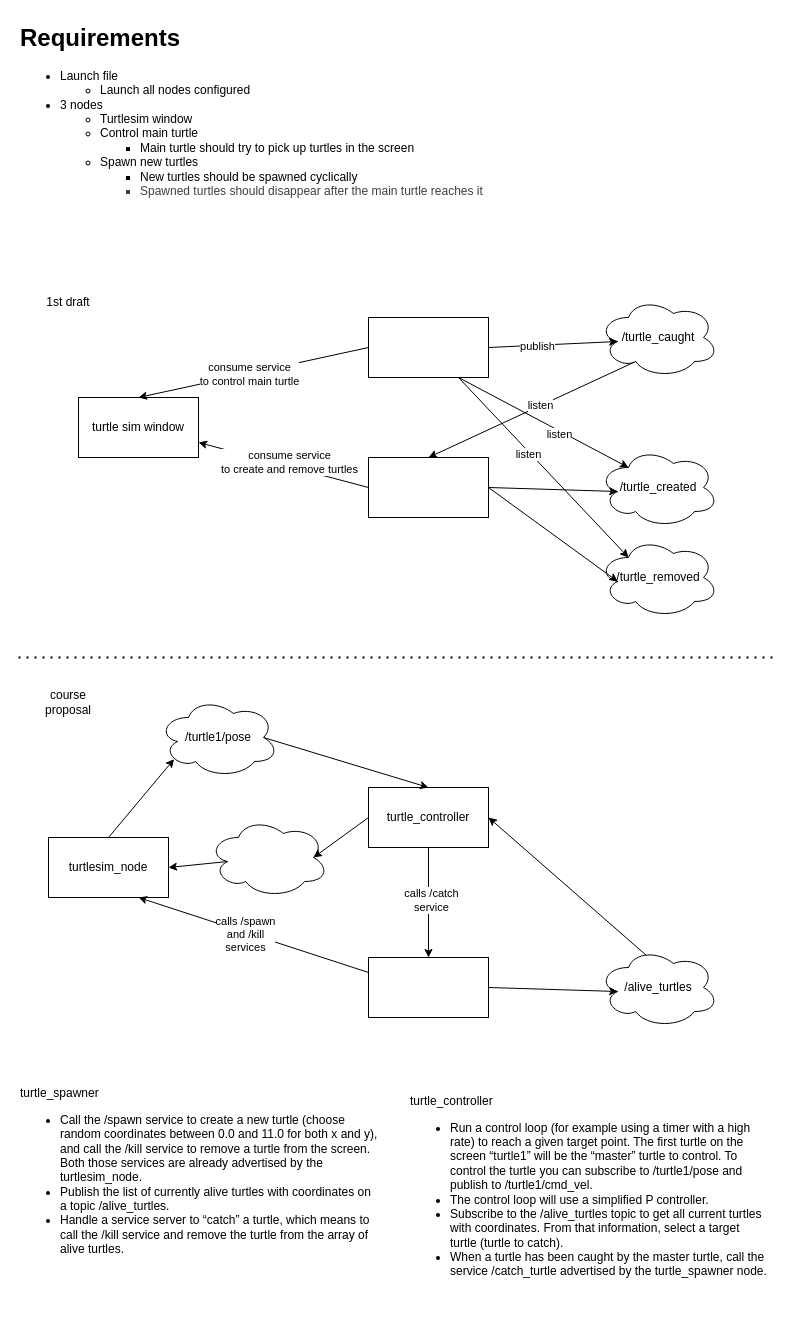
The diagram is 797 pixels wide and 1324 high, and some of its shapes have lost their labels. The shapes that lost their labels are listed below. From the top down, each one's box as (x1, y1, x2, y2) in pixels, then its label:
(368, 316, 488, 378): main turtle control
(368, 456, 488, 518): turtle spawner
(208, 816, 328, 898): /turtle1/cmd_vel
(368, 956, 488, 1018): turtle_spawner
